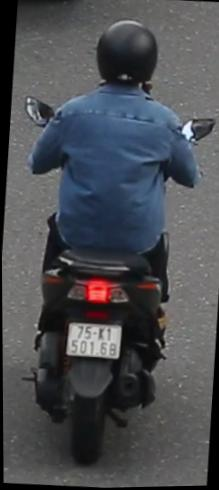LP: (62, 315, 124, 363)
helmet: (89, 15, 164, 102)
